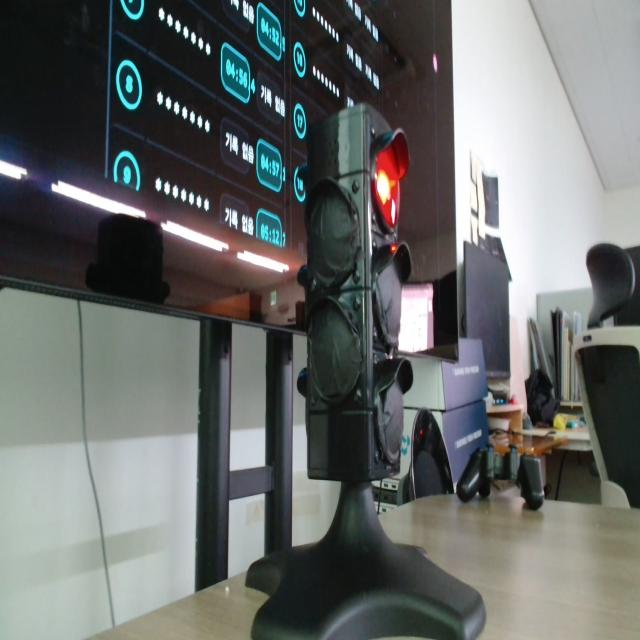red_light: (372, 130, 408, 231), (376, 146, 399, 229), (391, 244, 397, 253)
